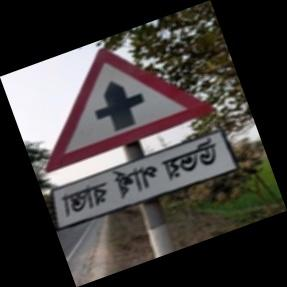Crossroad: (43, 47, 225, 271)
